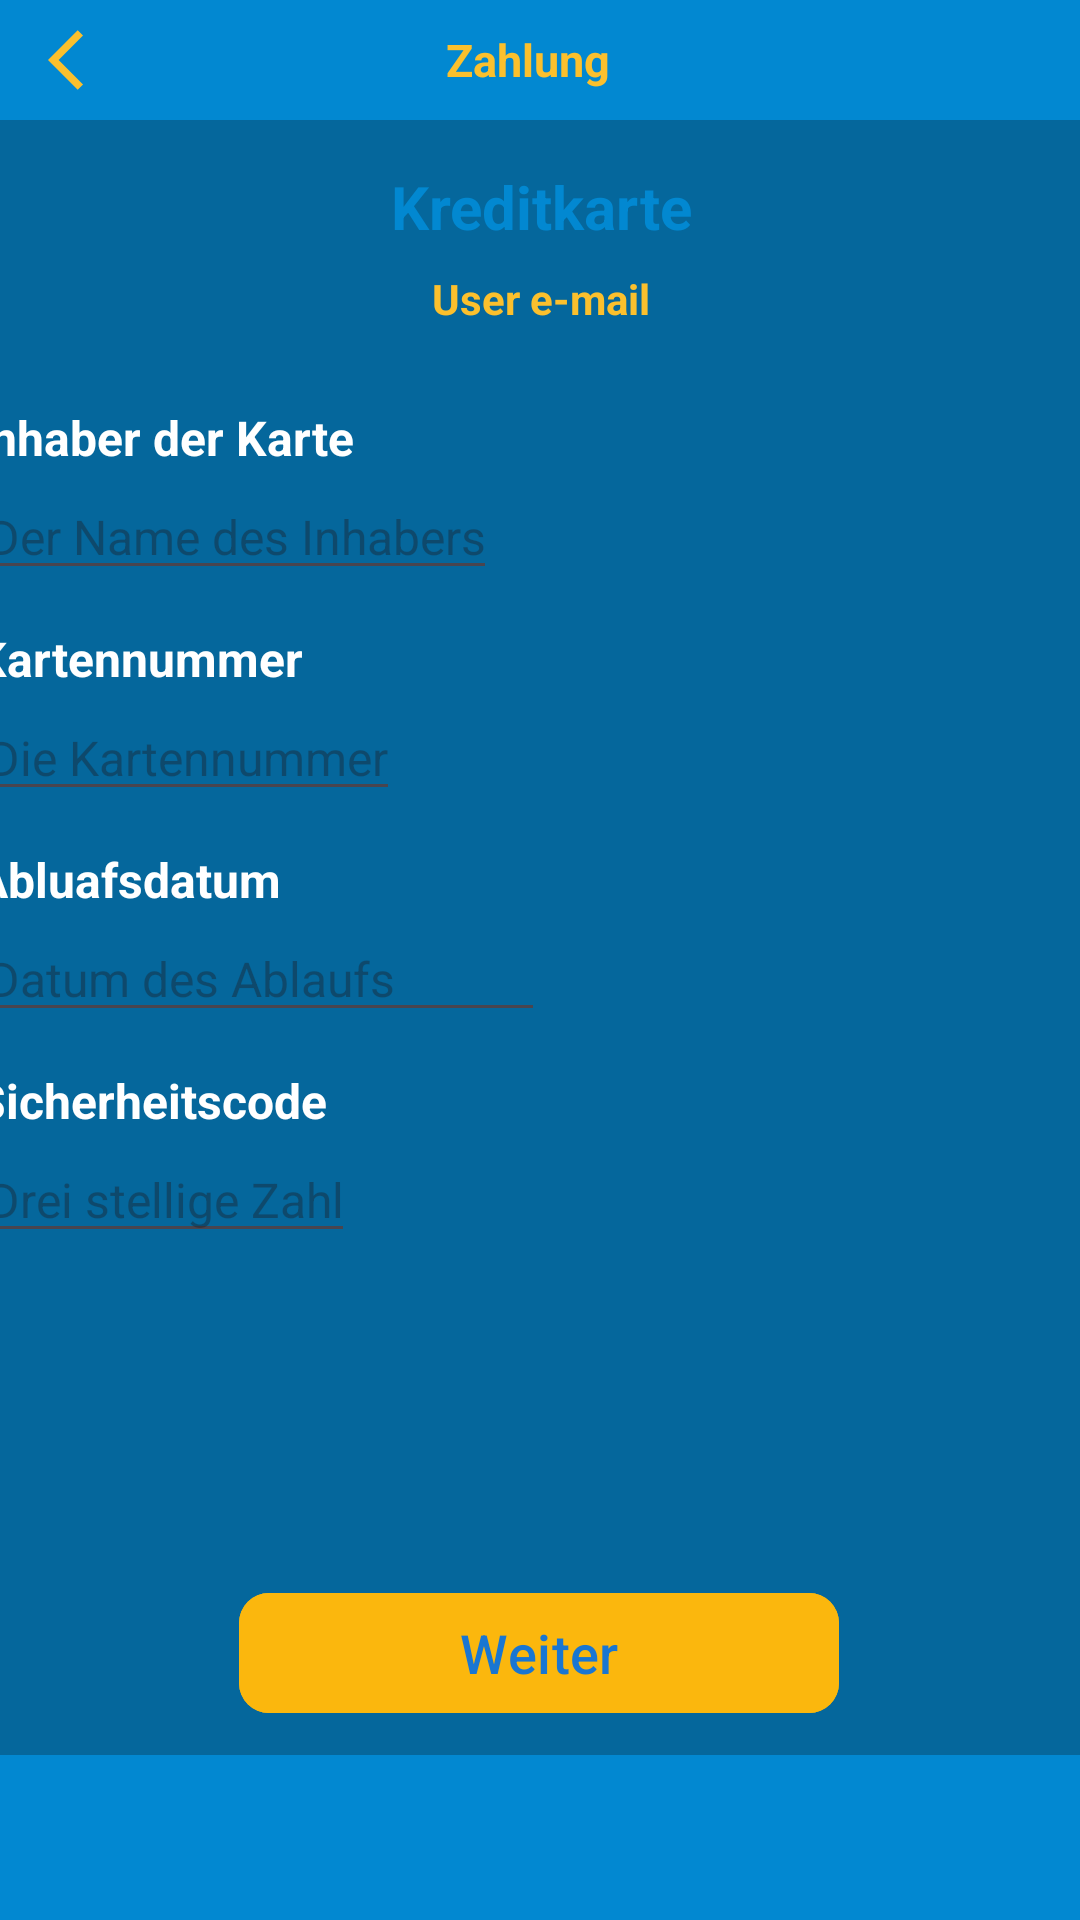

Where icons sit on this 1080 x 1920 app screen, as [left=x1, top=y1, right=x2, bottom=y2]:
arrow back: [left=48, top=30, right=83, bottom=90]
